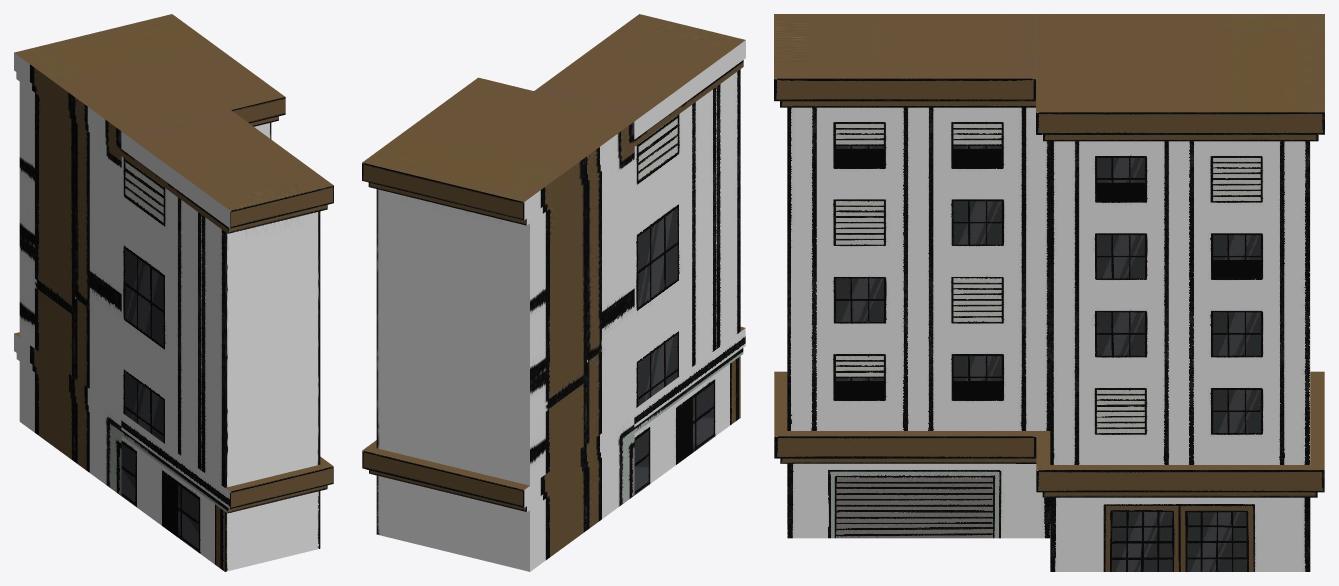
The model's file is predio_1.glb.
The picture shows the model from 3 angles, left to right: view 1: azimuth 30°, elevation 25°; view 2: azimuth 150°, elevation 25°; view 3: azimuth 270°, elevation 25°; orthographic projection. The views are drawn at different scales.
Parts seen in each view (by area): view 1: Cube; view 2: Cube; view 3: Cube.
Boxes of the visible parts, bbox=[...] form: Cube: bbox=[14, 14, 333, 571]; Cube: bbox=[362, 14, 745, 571]; Cube: bbox=[774, 14, 1324, 571].
Size of the model in its own units: 2.11 by 4.66 by 5.
1 material, 1 textured.
